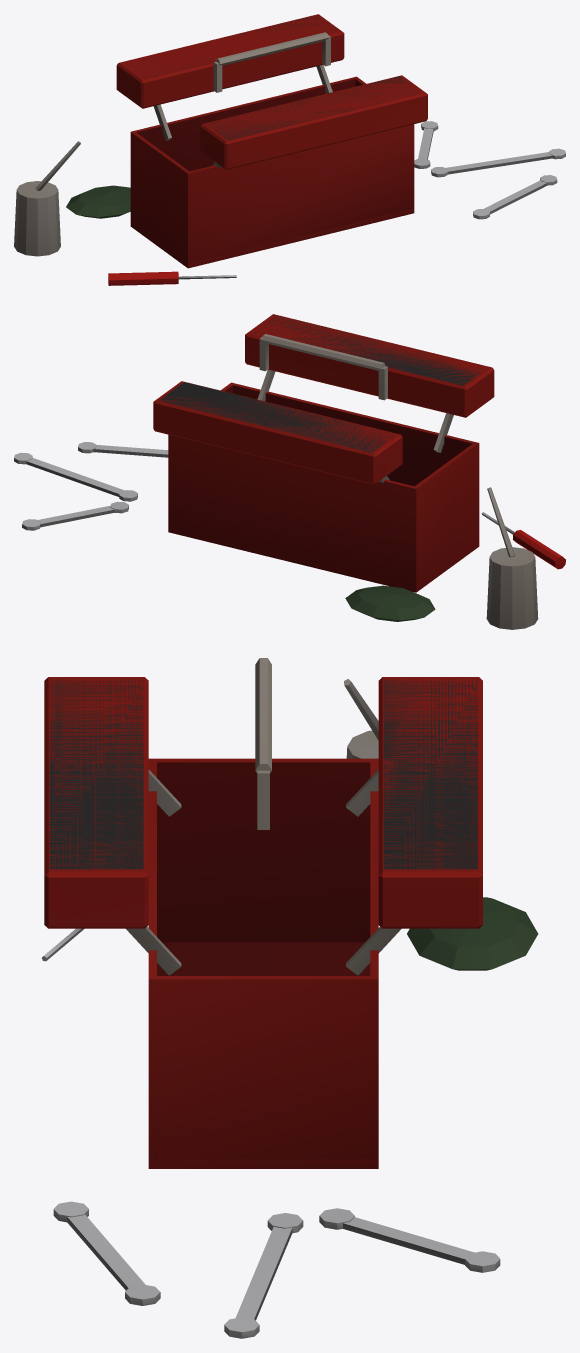
The model's file is pike_toolbox.glb.
3 renders of one model, top to bottom at view 1: azimuth 30°, elevation 25°; view 2: azimuth 150°, elevation 25°; view 3: azimuth 270°, elevation 25°, orthographic. The views are drawn at different scales.
Visible parts, largest first — view 1: toolbox_LOD0, toolbox_tools_LOD0; view 2: toolbox_LOD0, toolbox_tools_LOD0; view 3: toolbox_LOD0, toolbox_tools_LOD0.
Boxes of the visible parts, left/top/right/bottom form: toolbox_LOD0: left=116, top=14, right=427, bottom=268; toolbox_tools_LOD0: left=14, top=121, right=565, bottom=285; toolbox_LOD0: left=153, top=314, right=494, bottom=592; toolbox_tools_LOD0: left=14, top=442, right=565, bottom=629; toolbox_LOD0: left=44, top=658, right=482, bottom=1168; toolbox_tools_LOD0: left=42, top=679, right=538, bottom=1338.
Size of what is drawn, in the model's own units: 1.13 by 0.3694 by 0.4756.
